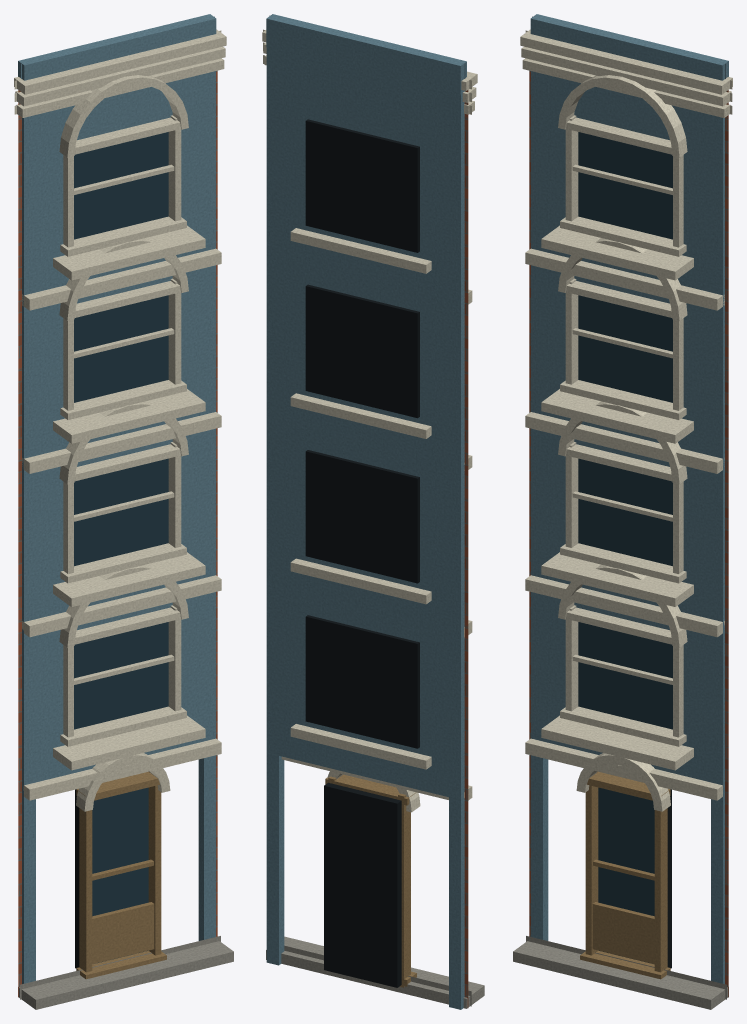
The model's file is OFFC1_lod2.glb.
3 views of the same model, side by side, from view 1: azimuth 30°, elevation 25°; view 2: azimuth 150°, elevation 25°; view 3: azimuth 330°, elevation 25° (orthographic).
Visible parts, largest first — view 1: OFFC1_FRONT_LOD2; view 2: OFFC1_FRONT_LOD2; view 3: OFFC1_FRONT_LOD2.
Boxes of the visible parts, x1,y1,x2,y2 form: OFFC1_FRONT_LOD2: (14,14,233,1009); OFFC1_FRONT_LOD2: (262,14,484,1009); OFFC1_FRONT_LOD2: (513,14,732,1009).
Bounding box in the file's own units: 3.44 × 14.86 × 0.85.
8 materials, 6 textured.
